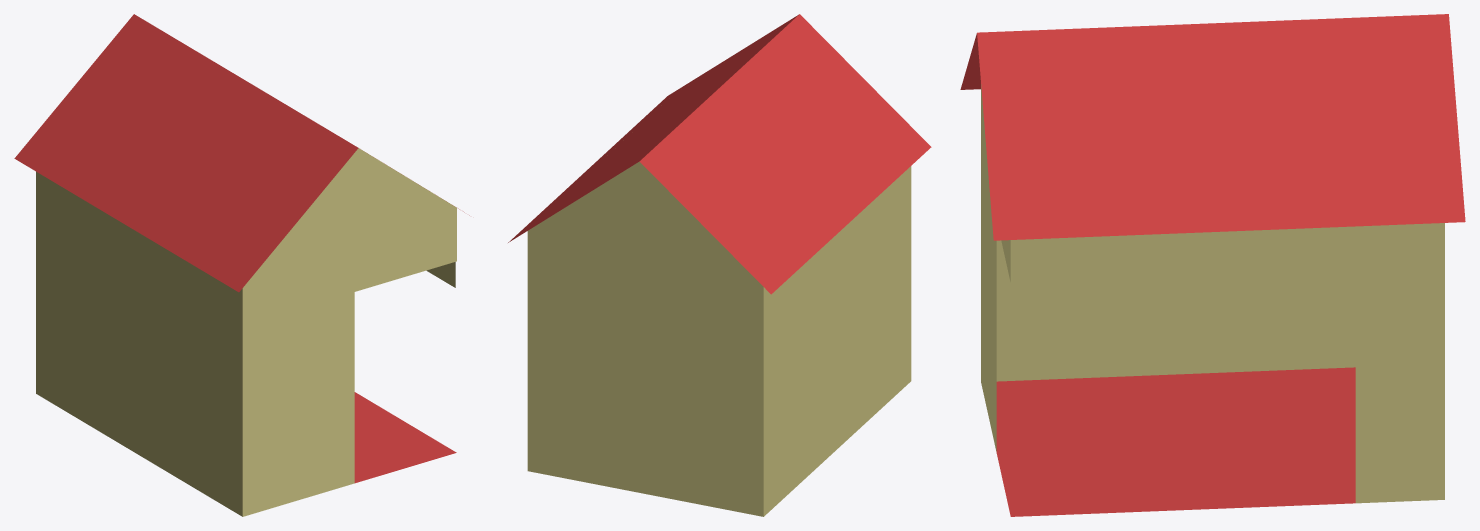
3 views of the same model, side by side, from view 1: azimuth 30°, elevation 25°; view 2: azimuth 150°, elevation 25°; view 3: azimuth 270°, elevation 25° (orthographic). The views are drawn at different scales.
Size of the model in its own units: 10.59 by 13.35 by 12.18.
